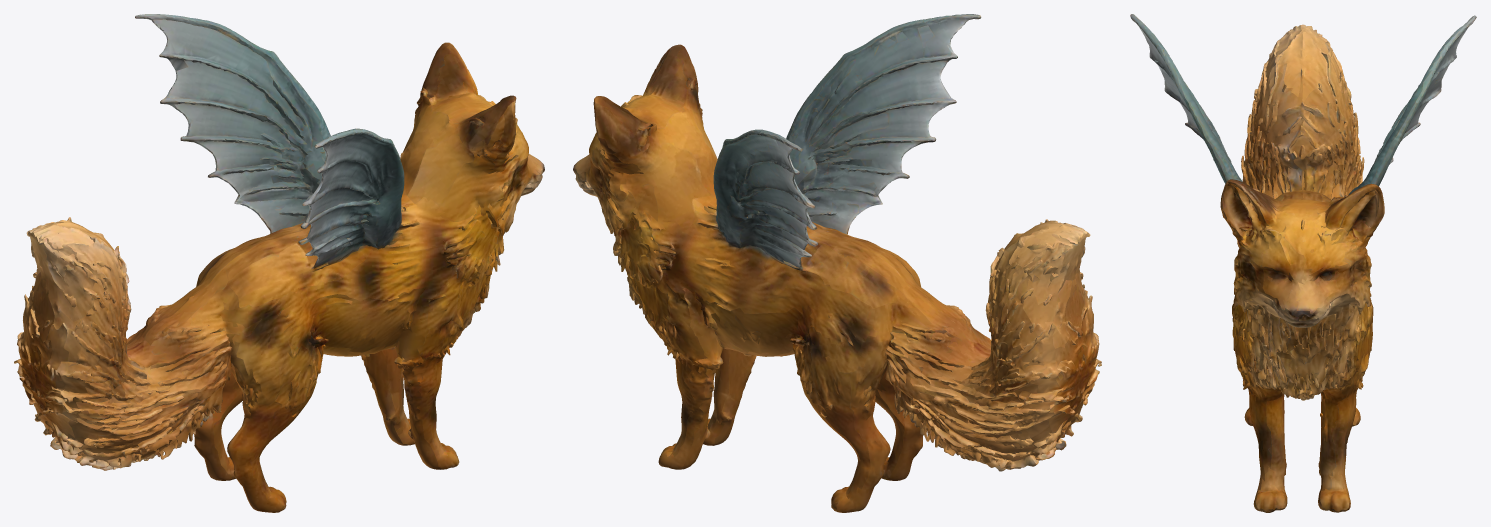
Rendered from xingxing.glb.
3 renders of one model, left to right at view 1: azimuth 30°, elevation 25°; view 2: azimuth 150°, elevation 25°; view 3: azimuth 270°, elevation 25°, orthographic. The views are drawn at different scales.
Parts seen in each view (by area): view 1: geometry_0; view 2: geometry_0; view 3: geometry_0.
Boxes of the visible parts, box(x1,y1,x2,y2) form: geometry_0: box(14, 14, 544, 512); geometry_0: box(573, 14, 1101, 512); geometry_0: box(1130, 14, 1476, 512).
Size of the model in its own units: 0.45 by 0.3566 by 0.2785.
Materials: 1 (1 with a texture image).
